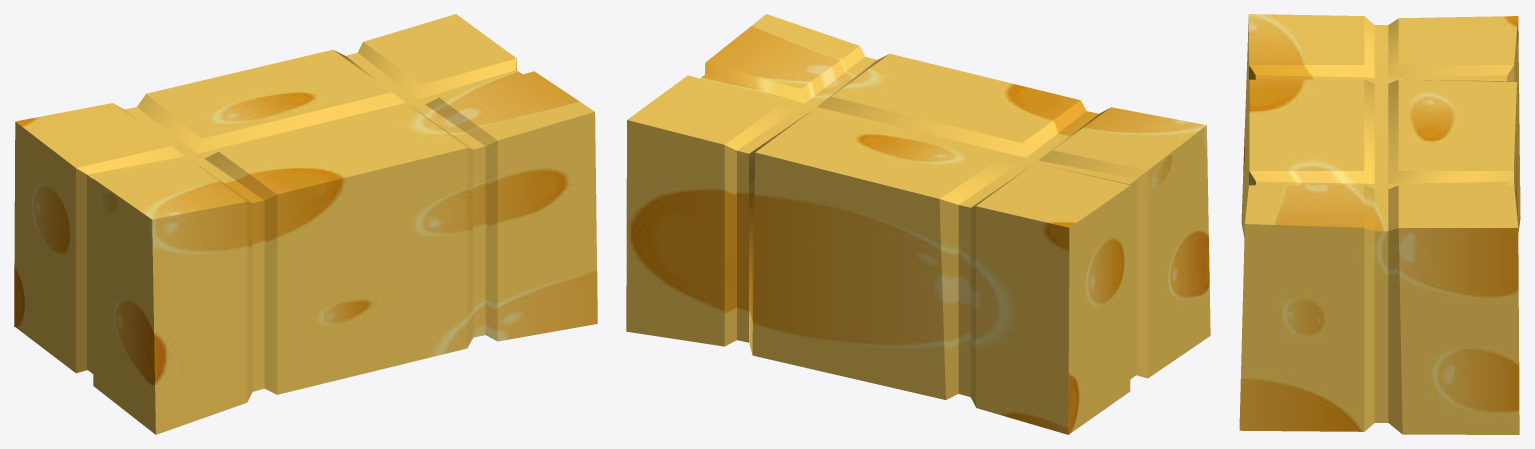
File: FEEDFBX.fbx
The picture shows the model from 3 angles, left to right: view 1: azimuth 30°, elevation 25°; view 2: azimuth 150°, elevation 25°; view 3: azimuth 270°, elevation 25°; orthographic projection.
Visible parts, largest first — view 1: Props_BlockSquare_Mesh; view 2: Props_BlockSquare_Mesh; view 3: Props_BlockSquare_Mesh.
Boxes of the visible parts, bbox=[...] form: Props_BlockSquare_Mesh: bbox=[14, 14, 597, 434]; Props_BlockSquare_Mesh: bbox=[626, 14, 1210, 434]; Props_BlockSquare_Mesh: bbox=[1239, 14, 1520, 434].
Size of the model in its own units: 62.86 by 29.2 by 35.26.
1 material, 1 textured.
